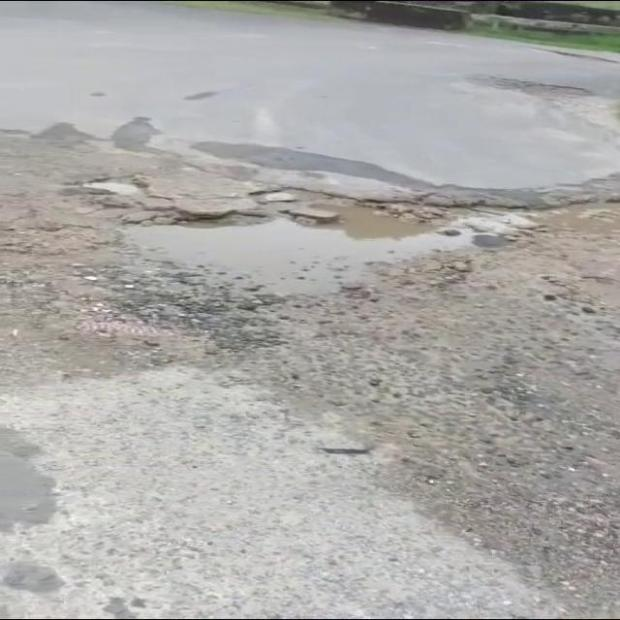lubang: (121, 177, 619, 307), (65, 176, 148, 205)
